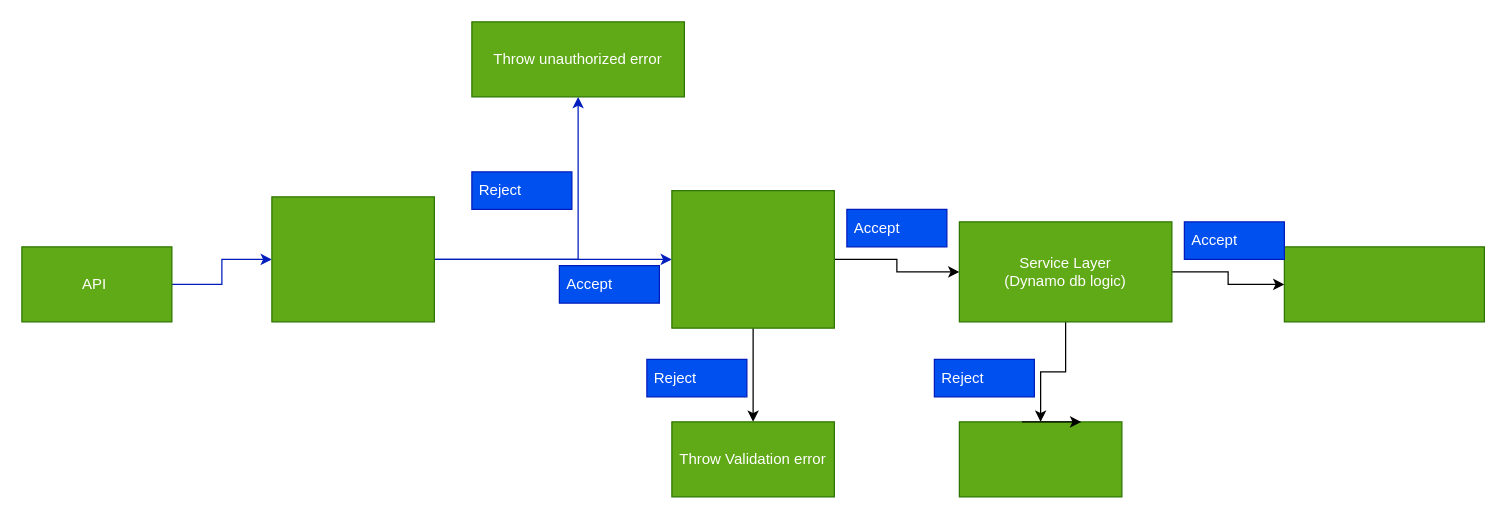
The diagram is 1506 pixels wide and 519 high, and some of its shapes have lost their labels. The shapes that lost their labels are listed below. From the top down, each one's box as (x1, y1, x2, y2) in pixels, then its label:
(271, 196, 434, 322): Middleware (Check Authentication)
(671, 189, 834, 328): Validate query and request body
(1283, 246, 1484, 322): Response returned to user
(958, 421, 1122, 497): Throw Server error
